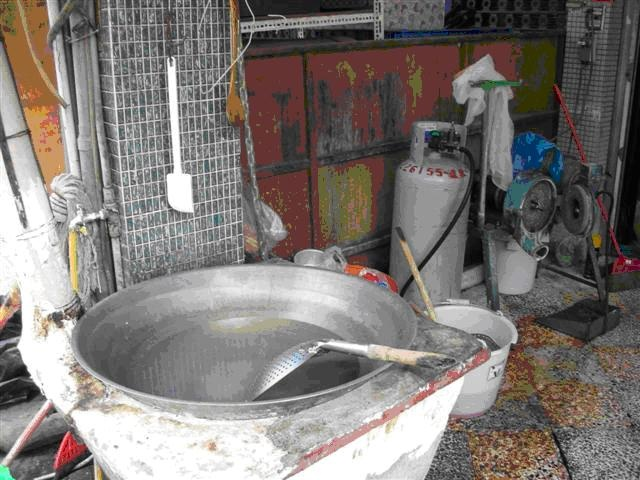bowl: (73, 250, 421, 421)
bucket: (418, 294, 521, 419)
